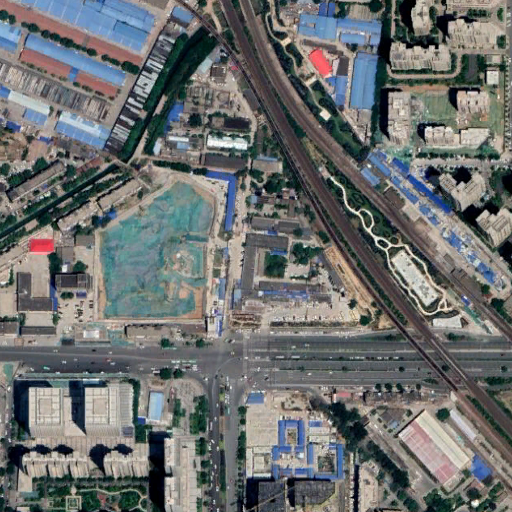cw: (99, 179, 213, 318)
